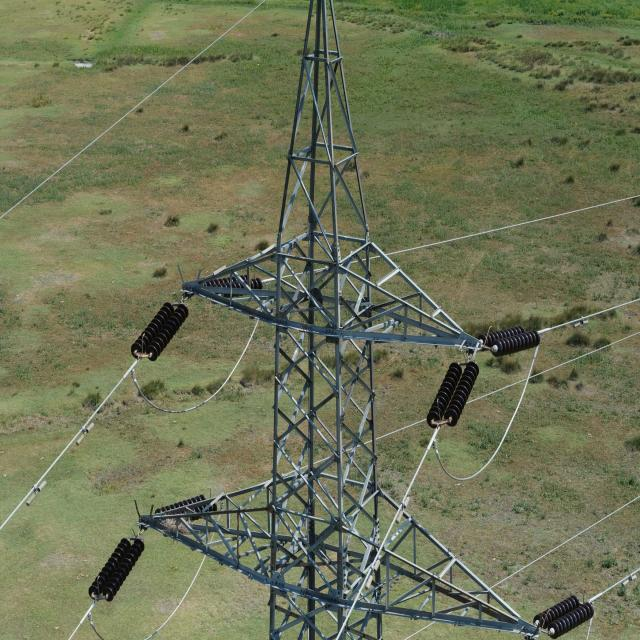direk: (266, 7, 389, 640)
